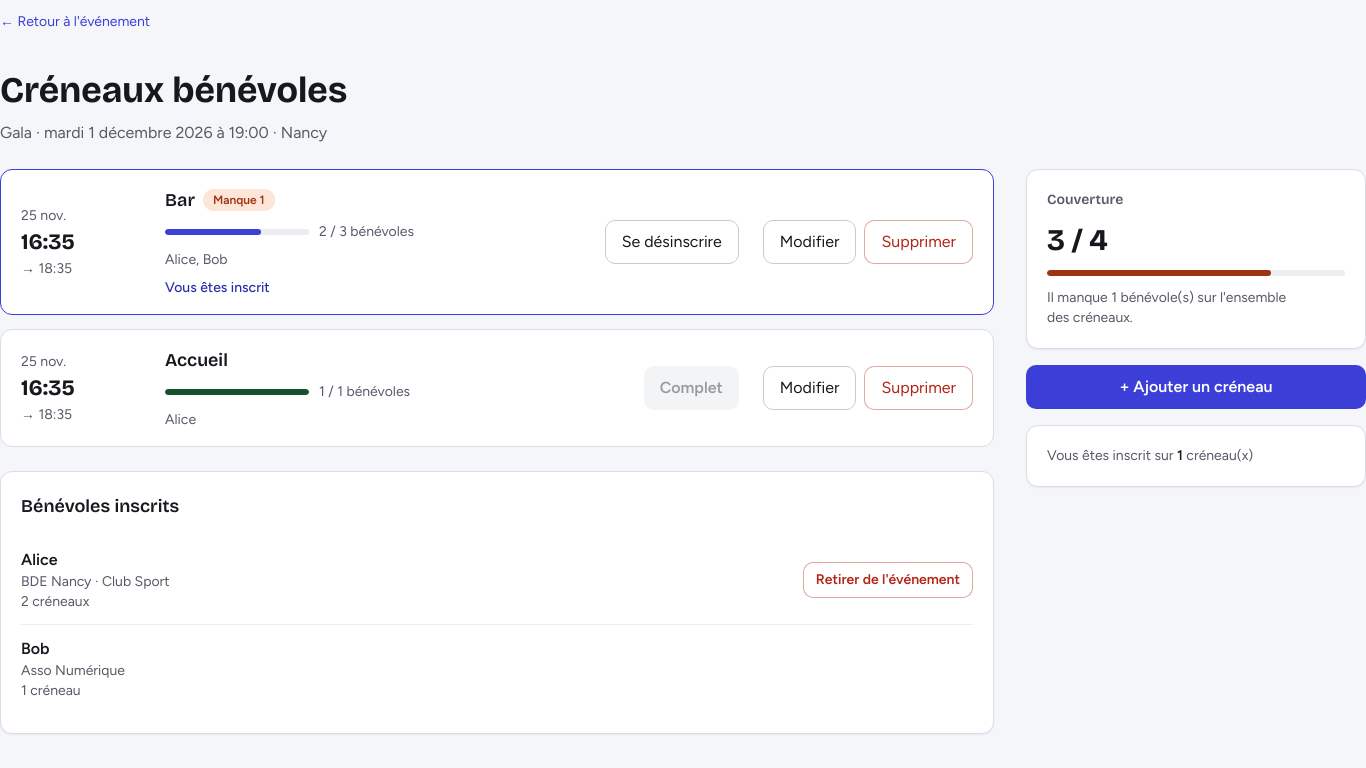
Test case: VolunteerShiftsPage coverage for a manager › explains a refused removal
Click the button with aria-label "Retirer Alice de l'événement" at (888,580), box [803,562,973,598]
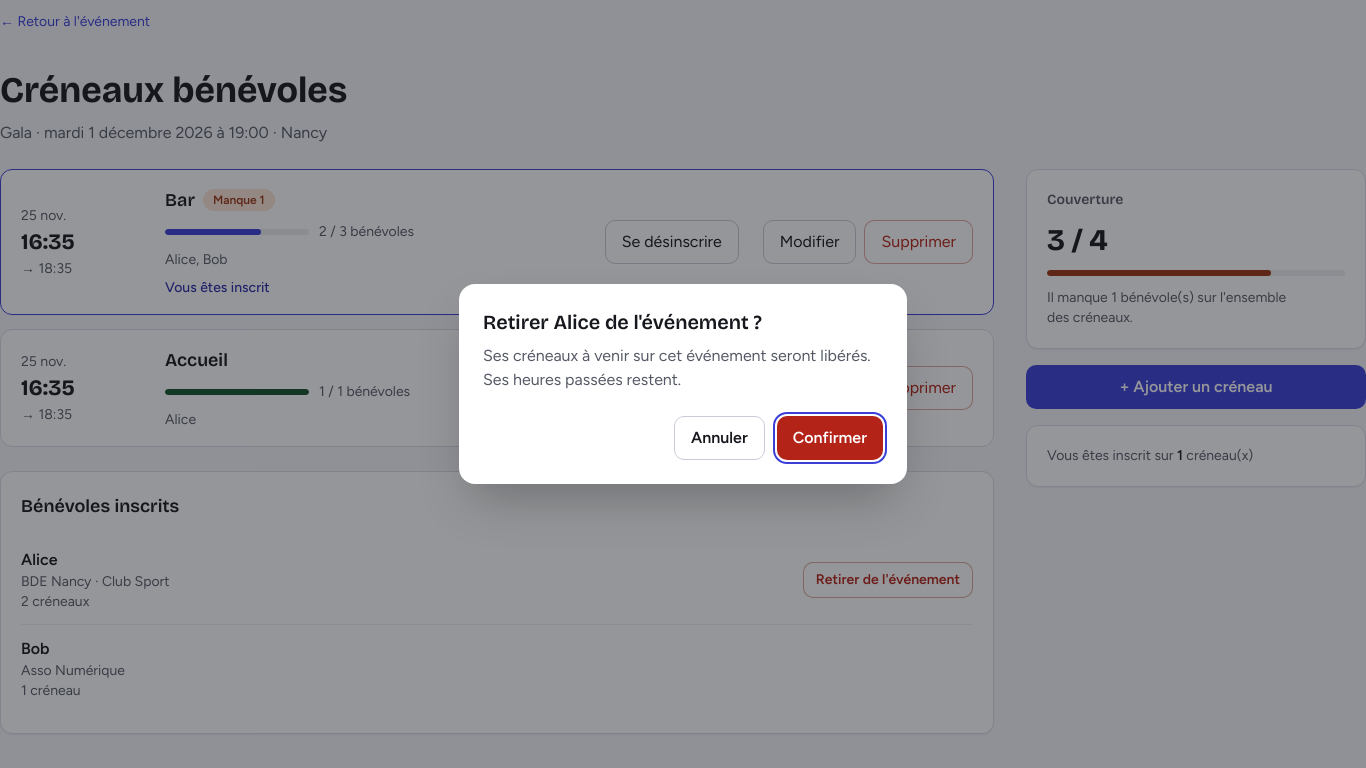
Click the button "Confirmer" at (830,438), box [777,416,883,460]
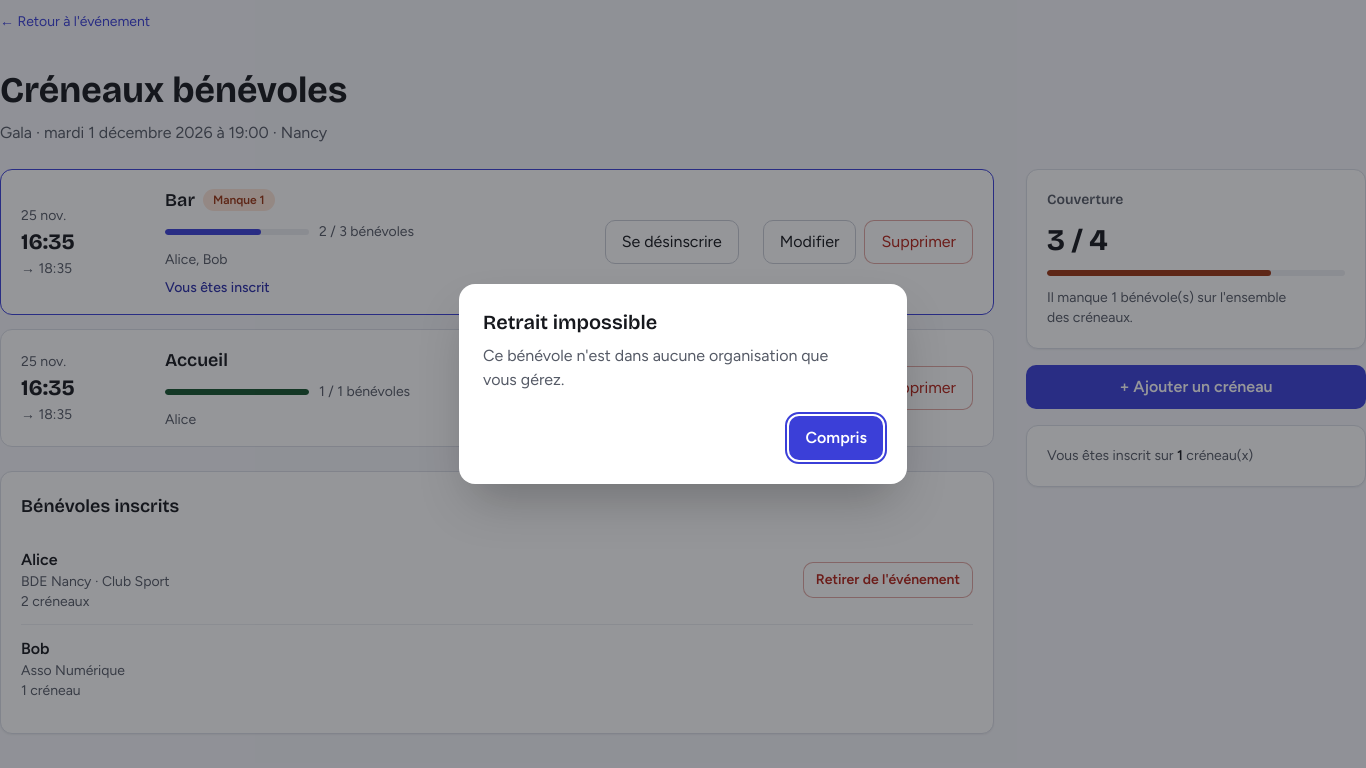
expect the dialog shows "Ce bénévole n'est dans aucune organisation que vous gérez.": met, box [483,346,828,389]
